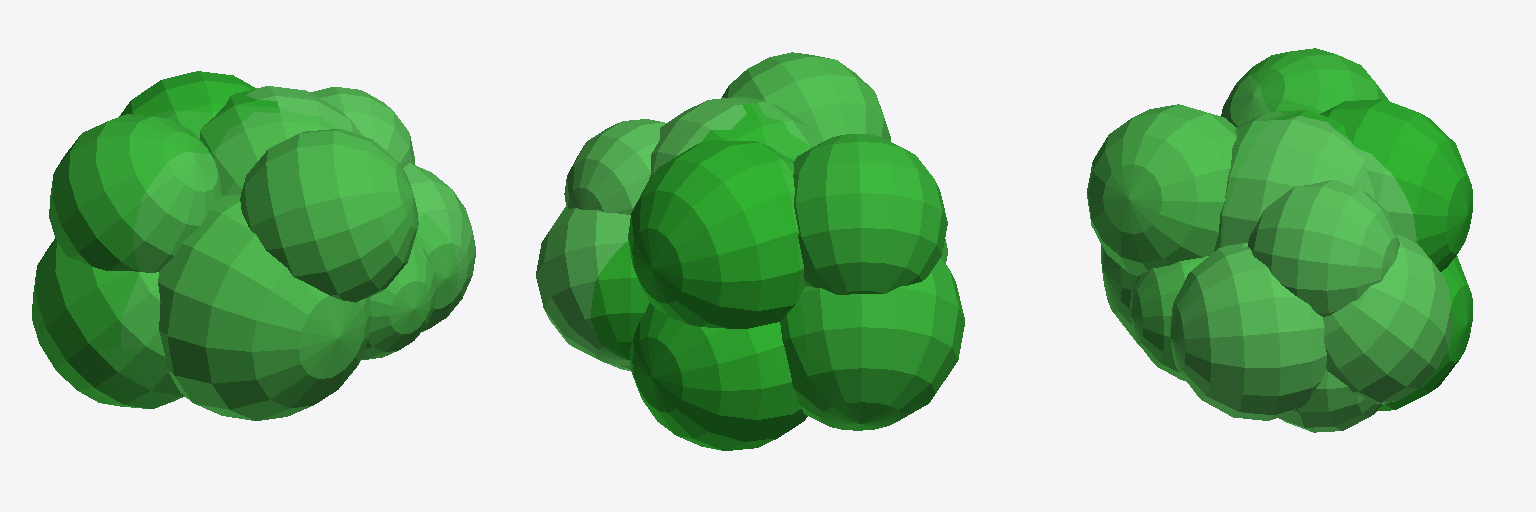
The picture shows the model from 3 angles: view 1: azimuth 30°, elevation 25°; view 2: azimuth 150°, elevation 25°; view 3: azimuth 270°, elevation 25°; orthographic projection.
Parts seen in each view (by area): view 1: Tree_Top; view 2: Tree_Top; view 3: Tree_Top.
Part boxes in pixels (left/top/right/bottom): Tree_Top: left=32, top=71, right=475, bottom=420; Tree_Top: left=536, top=52, right=964, bottom=450; Tree_Top: left=1087, top=48, right=1472, bottom=432.
Size of the model in its own units: 152 by 112 by 129.
Materials: 1 (1 with a texture image).